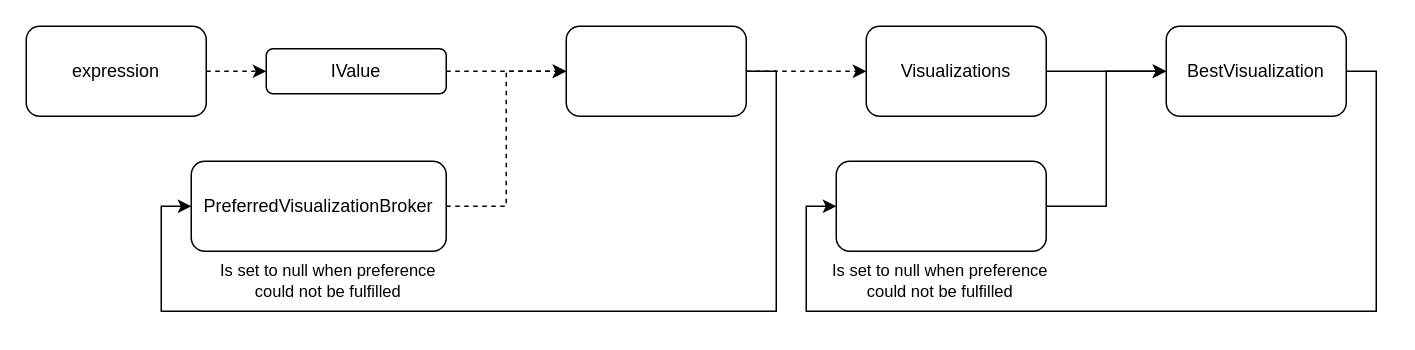
This 1415x350 diagram has some shape labels left out. The centre of each missing label's shape, as x and y in pixels:
"PreferredVisualization" belongs at pixel 940 205.
"VisualizationData" belongs at pixel 655 70.
